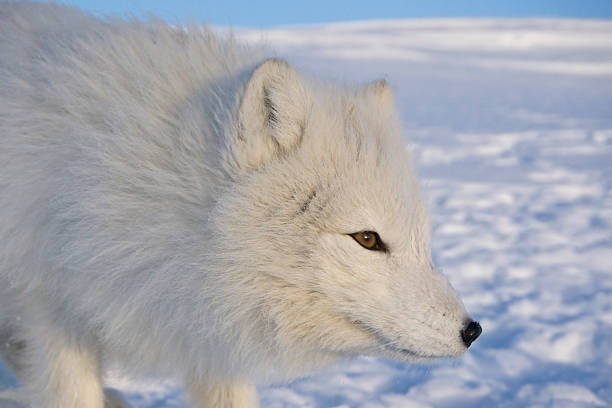arcticfox: (266, 106, 487, 385)
